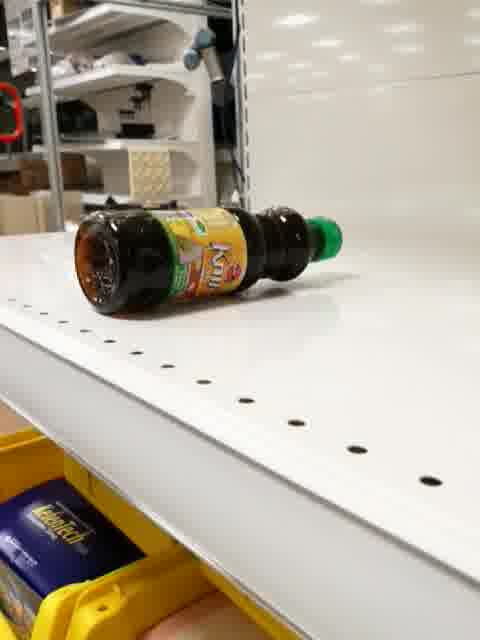cookingoil: (68, 203, 347, 320)
